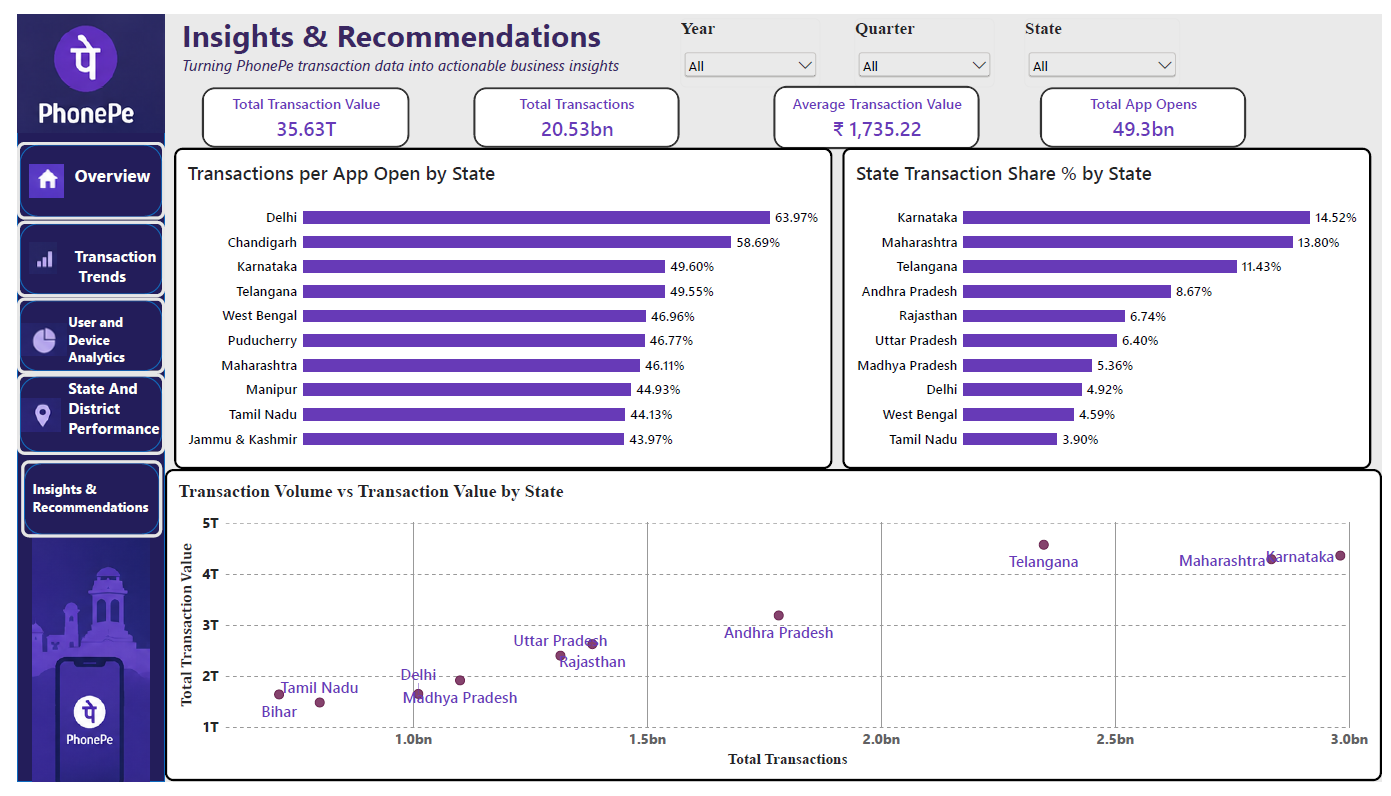

The dashboard page shown, as its layout file describes it:
{"tool":"powerbi","page":{"name":"Insights & Recommendations","canvas":[1920,1080],"ordinal":4},"visuals":[{"type":"textbox","box":[231.9,0,695.7,121.5],"z":0},{"type":"slicer","title":"Year","fields":{"Values":["State_Txn and Users.Year"]},"box":[933.1,5.5,196.9,97.5],"z":1000},{"type":"slicer","title":"Quarter","fields":{"Values":["State_Txn and Users.Quarter"]},"box":[1177.9,5.5,196.9,97.5],"z":2000},{"type":"slicer","title":"State","fields":{"Values":["DimState.State"]},"box":[1417.2,5.5,219,97.5],"z":3000},{"type":"cardVisual","fields":{"Data":["State_Txn and Users.Total Transactions"]},"box":[642.3,103.1,290,85],"z":4000},{"type":"cardVisual","fields":{"Data":["State_Txn and Users.Total Transaction Value"]},"box":[259.5,103.1,292.6,85],"z":5000},{"type":"cardVisual","fields":{"Data":["State_Txn and Users.Average Transaction Value"]},"box":[1063.8,101.2,290,89],"z":6000},{"type":"cardVisual","fields":{"Data":["State_Txn and Users.Total App Opens"]},"box":[1439.3,103.1,290,85],"z":7000},{"type":"clusteredBarChart","fields":{"Category":["DimState.State"],"Y":["State_Txn and Users.State Transaction Share %"]},"box":[1161.4,187.7,743.6,452.8],"z":8000},{"type":"scatterChart","title":"Transaction Volume vs Transaction Value by State","fields":{"Category":["State_Txn and Users.State"],"X":["State_Txn and Users.Total Transactions"],"Y":["State_Txn and Users.Total Transaction Value"]},"box":[208,640.5,1711.7,438],"z":9000},{"type":"clusteredBarChart","title":"Transactions per App Open by State","fields":{"Category":["DimState.State"],"Y":["State_Txn and Users.Transactions per App Open"]},"box":[220.9,187.7,925.8,452.8],"z":10000},{"type":"shape","box":[0,0,208,1080.4],"z":11000},{"type":"image","box":[0,725.2,208,355.2],"z":12000},{"type":"image","box":[0,0,208,167.5],"z":13000},{"type":"shape","box":[0,180.4,208,108.6],"z":14000},{"type":"shape","box":[0,290.8,208,106.7],"z":15000},{"type":"shape","box":[0,399.4,208,106.7],"z":16000},{"type":"shape","box":[0,506.1,208,114.1],"z":17000},{"type":"textbox","box":[81,209.8,127,49.7],"z":18000},{"type":"textbox","box":[81,325.8,150.9,68.1],"z":19000},{"type":"textbox","box":[71.8,419.6,136.2,86.5],"z":20000},{"type":"textbox","box":[71.8,511.7,136.2,108.6],"z":21000},{"type":"image","box":[16.6,208,49.7,53.4],"z":22000},{"type":"image","box":[16.6,316.6,38.7,53.4],"z":23000},{"type":"image","box":[5.5,417.8,64.4,79.1],"z":24000},{"type":"image","box":[5.5,530.1,55.2,68.1],"z":25000},{"type":"shape","box":[5.5,627.6,198.8,108.6],"z":25001},{"type":"textbox","box":[22.1,655.2,268.7,55.2],"z":25002}]}

Visuals, with their boxes on the page's 1920x1080 design canvas (x1, y1, x2, y2). These are canvas units, not pixel positions in the 1391x796 screenshot, which may show the page scaled, cropped or inside an application window:
textbox: (232,0,928,122)
"Year" slicer: (933,6,1130,103)
"Quarter" slicer: (1178,6,1375,103)
"State" slicer: (1417,6,1636,103)
cardVisual - State_Txn and Users.Total Transactions: (642,103,932,188)
cardVisual - State_Txn and Users.Total Transaction Value: (260,103,552,188)
cardVisual - State_Txn and Users.Average Transaction Value: (1064,101,1354,190)
cardVisual - State_Txn and Users.Total App Opens: (1439,103,1729,188)
clusteredBarChart - DimState.State x State_Txn and Users.State Transaction Share %: (1161,188,1905,640)
"Transaction Volume vs Transaction Value by State" scatterChart: (208,640,1920,1078)
"Transactions per App Open by State" clusteredBarChart: (221,188,1147,640)
shape: (0,0,208,1080)
image: (0,725,208,1080)
image: (0,0,208,168)
shape: (0,180,208,289)
shape: (0,291,208,398)
shape: (0,399,208,506)
shape: (0,506,208,620)
textbox: (81,210,208,260)
textbox: (81,326,232,394)
textbox: (72,420,208,506)
textbox: (72,512,208,620)
image: (17,208,66,261)
image: (17,317,55,370)
image: (6,418,70,497)
image: (6,530,61,598)
shape: (6,628,204,736)
textbox: (22,655,291,710)
